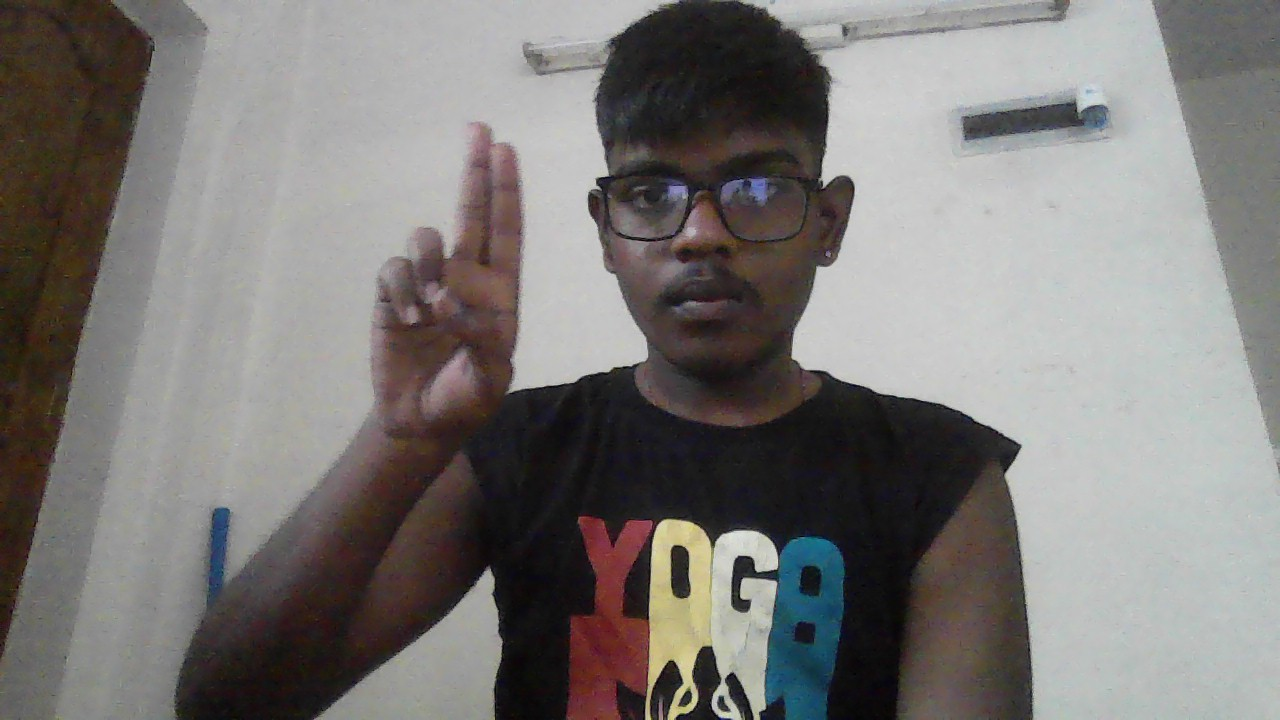U: (372, 123, 523, 438)
